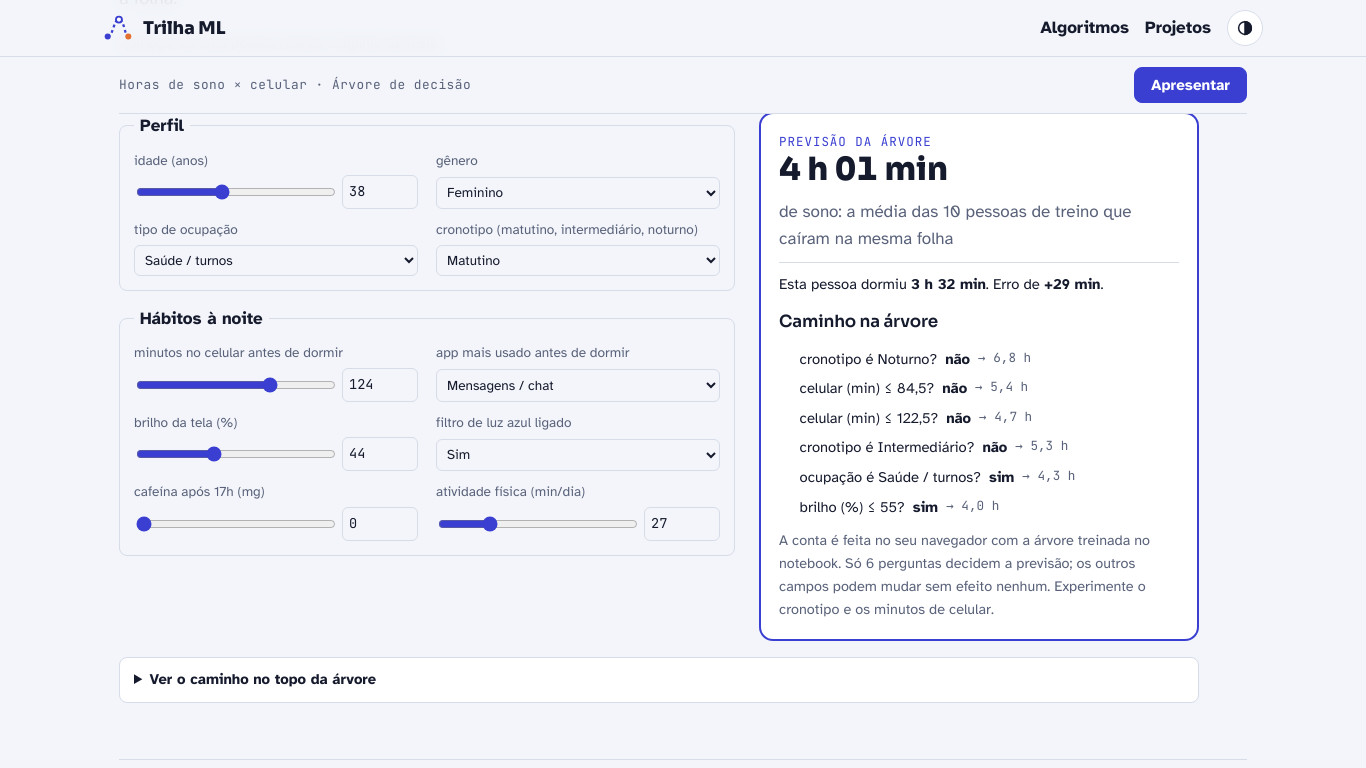
Scenario: apresentação da etapa 2 (árvore de decisão) › a seção de teste mostra a previsão e reage ao formulário
(page scrolled)
Expected: the text "Esta pessoa dormiu 3 h 32 min. Erro de +29 min." is shown, [779,262,1179,296]
Set the slider named "minutos no celular antes de dormir" to "1": (144, 385) [136,377,336,393]
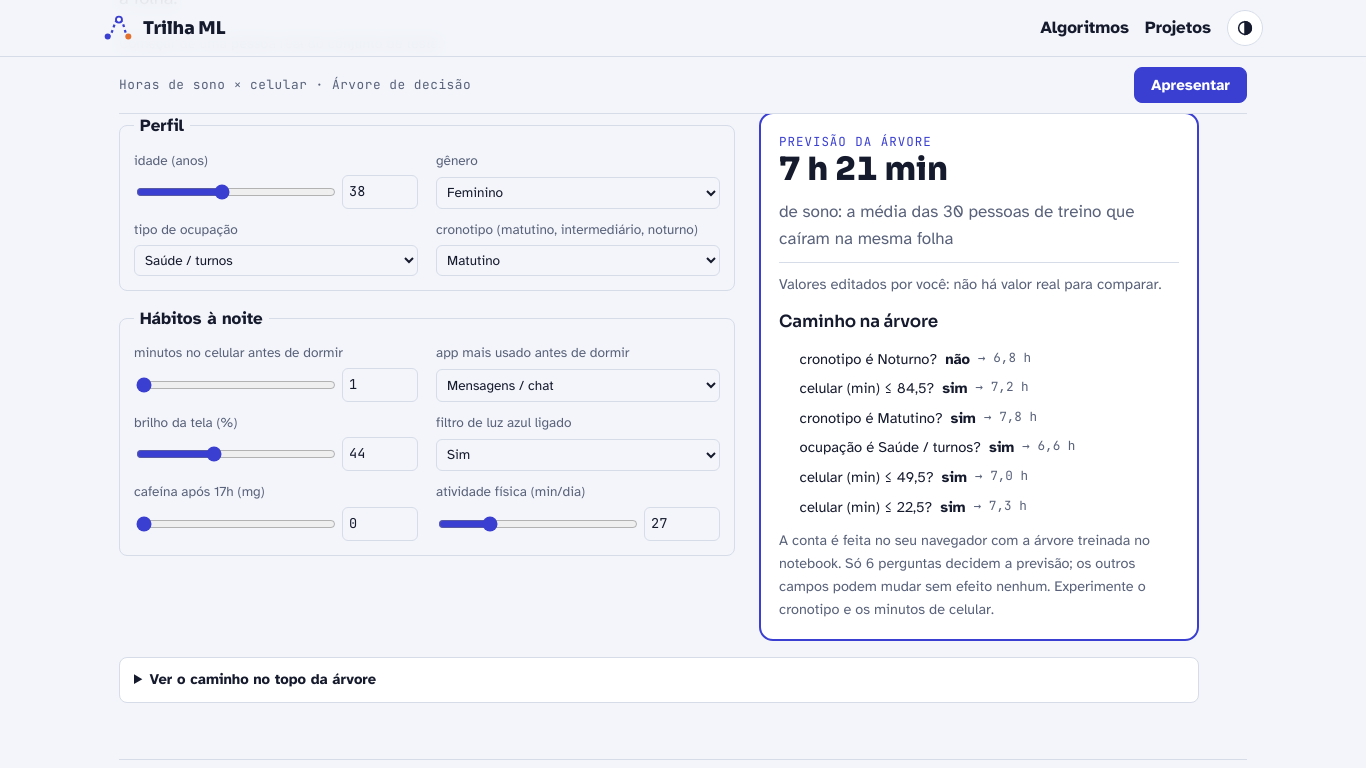
Expected: the text "Valores editados por você: não há valor real para comparar." is shown, [779,262,1179,296]
